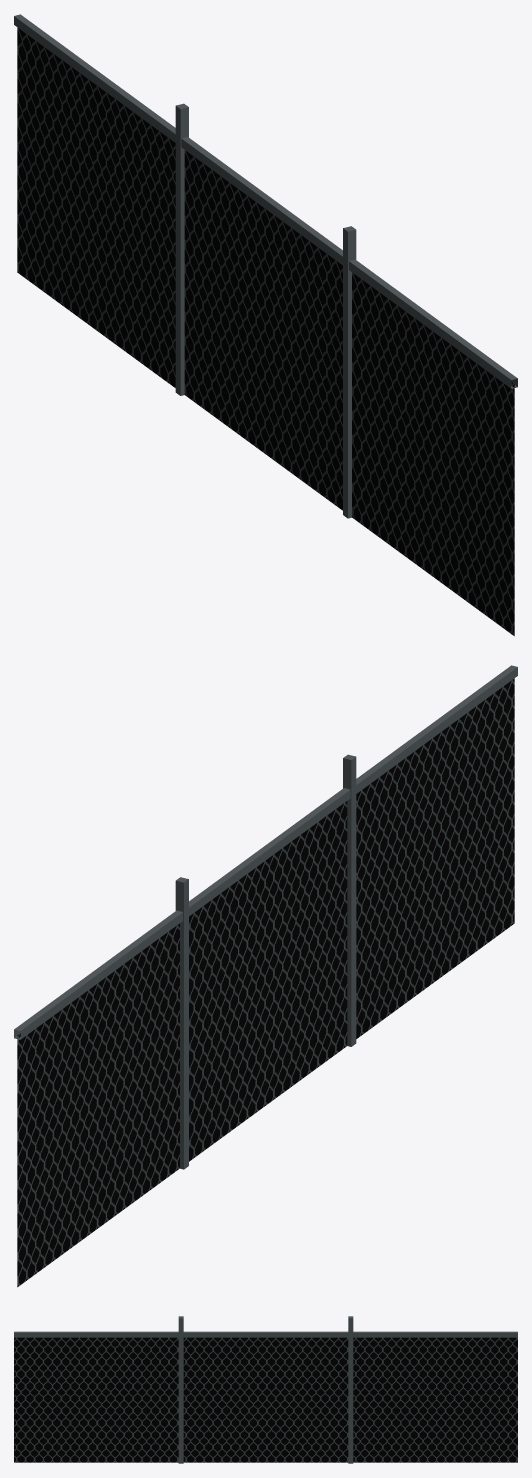
Rendered from fance_01_p3.fbx.
3 views of the same model, one above another, from view 1: azimuth 30°, elevation 25°; view 2: azimuth 150°, elevation 25°; view 3: azimuth 270°, elevation 25° (orthographic). The views are drawn at different scales.
Visible parts, largest first — view 1: fance_01_p3; view 2: fance_01_p3; view 3: fance_01_p3.
Boxes of the visible parts, x1=… form: fance_01_p3: x1=14, y1=14, x2=517, y2=636; fance_01_p3: x1=14, y1=665, x2=517, y2=1287; fance_01_p3: x1=14, y1=1316, x2=517, y2=1463.
Bounding box in the file's own units: 11.56 × 376 × 1181.
